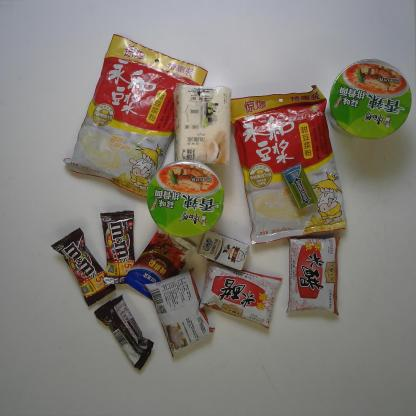Chocolate: (49, 225, 118, 309), (92, 293, 155, 373), (97, 209, 137, 286)
Gum: (279, 161, 319, 212)
Instant Drink: (62, 32, 210, 199), (231, 83, 348, 247)
Instant Noodles: (325, 57, 414, 142), (145, 158, 226, 240)
Milk: (195, 230, 250, 272)
Seasoner: (143, 265, 216, 360), (196, 257, 284, 332), (122, 226, 199, 302), (283, 234, 344, 317)
Tissue: (170, 82, 232, 168)
